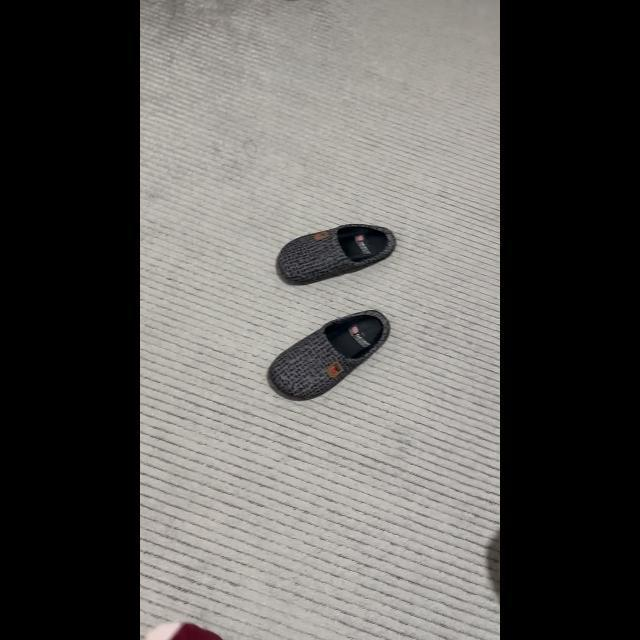slipper: (263, 306, 399, 406), (268, 224, 402, 284)
